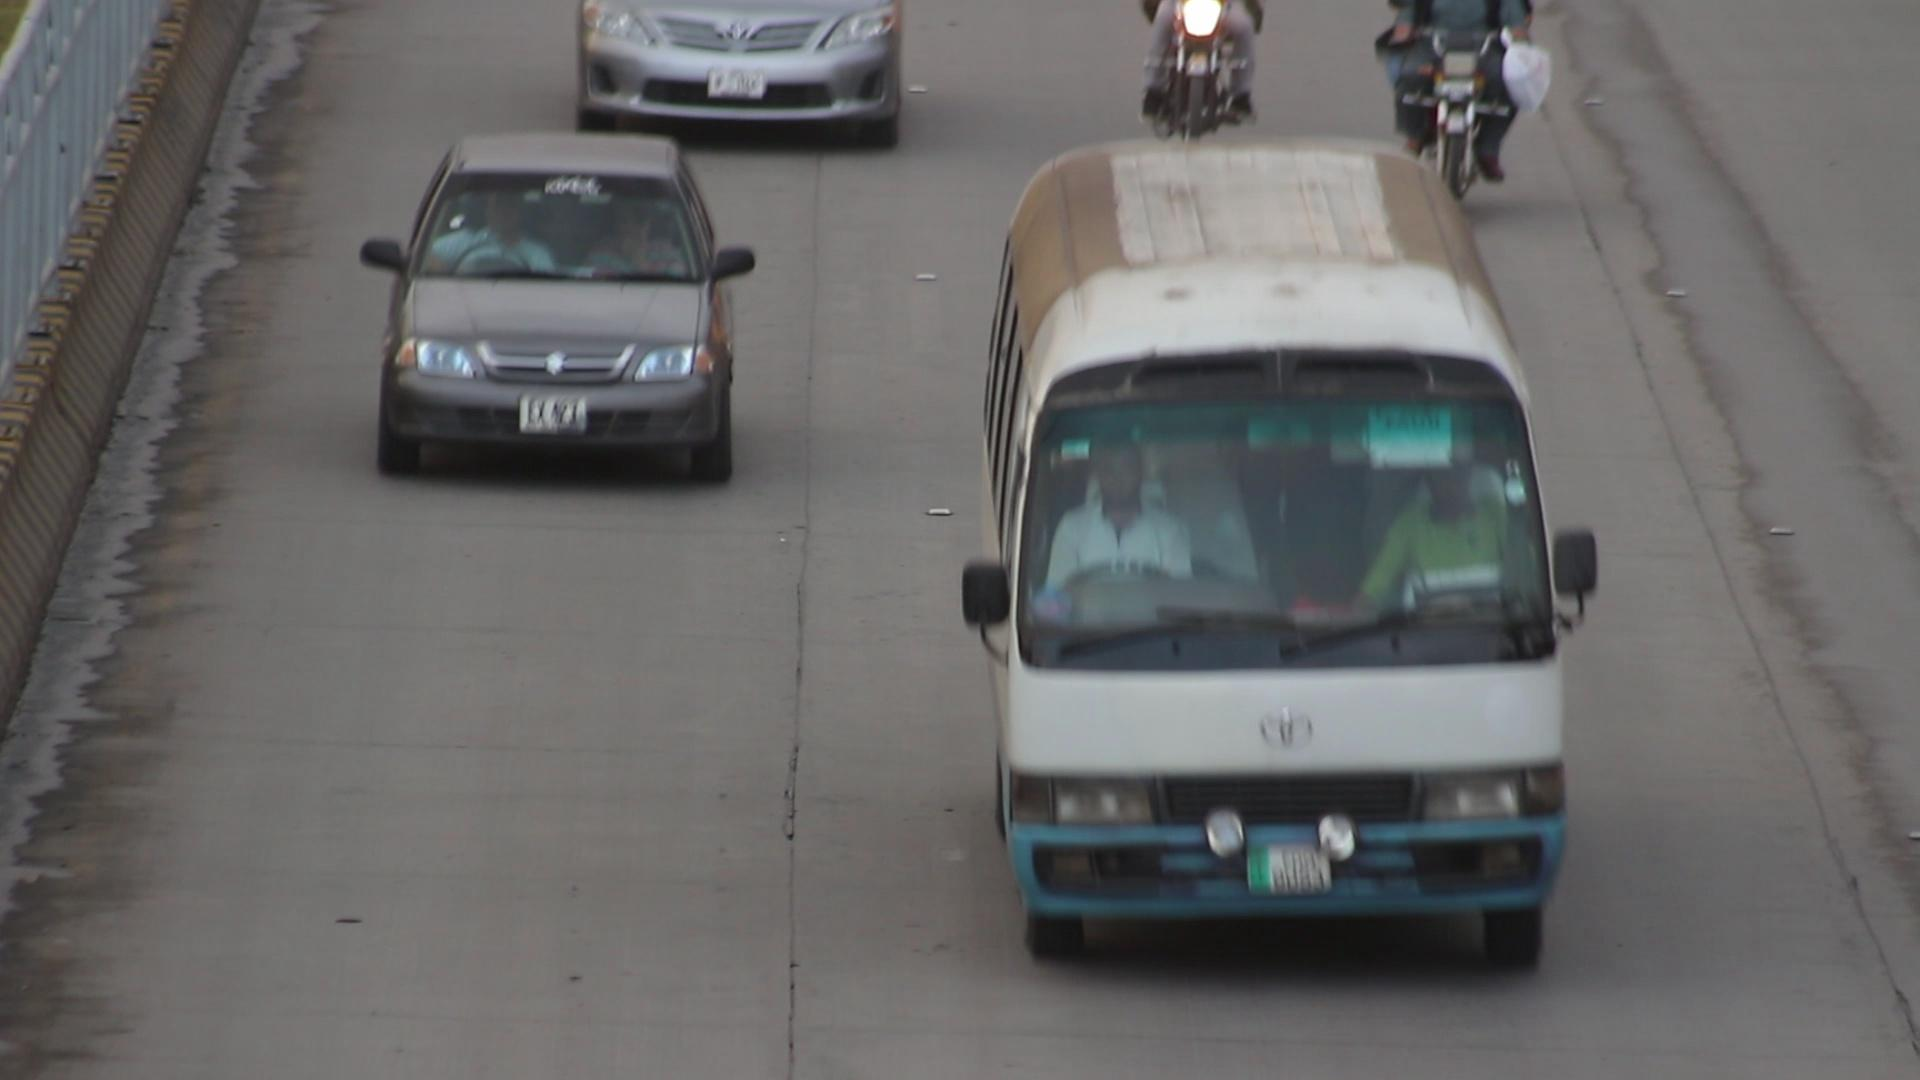windshield: (1017, 360, 1560, 670), (414, 166, 700, 284)
